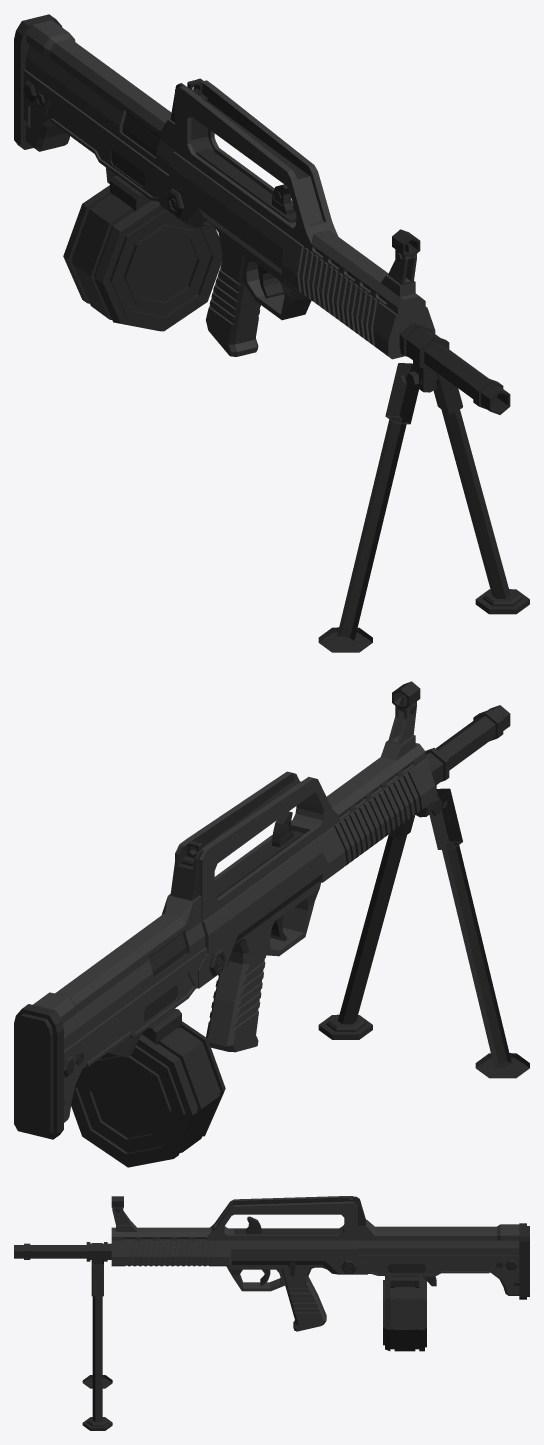
File: LMG_D.fbx
3 renders of one model, top to bottom at view 1: azimuth 30°, elevation 25°; view 2: azimuth 150°, elevation 25°; view 3: azimuth 270°, elevation 25°, orthographic. The views are drawn at different scales.
Parts seen in each view (by area): view 1: LMG_D_Receiver, LMG_D_Mag, LMG_D_Bipod_Right, LMG_D_Bipod_Left, LMG_D_Barrel, LMG_D_Bolt; view 2: LMG_D_Receiver, LMG_D_Mag, LMG_D_Bipod_Right, LMG_D_Bipod_Left, LMG_D_Barrel, LMG_D_Bolt; view 3: LMG_D_Receiver, LMG_D_Mag, LMG_D_Bipod_Left, LMG_D_Barrel, LMG_D_Bolt.
Boxes of the visible parts, left/top/right/bottom form: LMG_D_Receiver: left=14, top=14, right=435, bottom=359; LMG_D_Mag: left=63, top=176, right=221, bottom=331; LMG_D_Bipod_Right: left=318, top=363, right=422, bottom=652; LMG_D_Bipod_Left: left=433, top=373, right=529, bottom=614; LMG_D_Barrel: left=399, top=323, right=510, bottom=414; LMG_D_Bolt: left=196, top=148, right=296, bottom=223; LMG_D_Receiver: left=14, top=681, right=435, bottom=1139; LMG_D_Mag: left=71, top=1008, right=225, bottom=1167; LMG_D_Bipod_Right: left=427, top=788, right=529, bottom=1078; LMG_D_Bipod_Left: left=318, top=815, right=415, bottom=1039; LMG_D_Barrel: left=416, top=705, right=510, bottom=817; LMG_D_Bolt: left=214, top=811, right=302, bottom=898; LMG_D_Receiver: left=111, top=1196, right=529, bottom=1331; LMG_D_Mag: left=383, top=1276, right=426, bottom=1351; LMG_D_Bipod_Left: left=82, top=1264, right=112, bottom=1430; LMG_D_Barrel: left=14, top=1242, right=111, bottom=1263; LMG_D_Bolt: left=239, top=1216, right=342, bottom=1234.
Size of the model in its own units: 0.252 by 0.4588 by 1.03.
